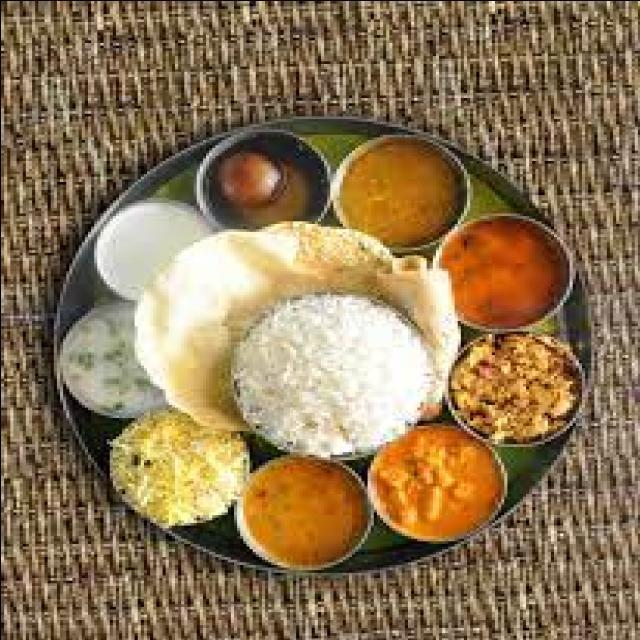curd: (44, 296, 173, 427), (72, 200, 210, 295)
dal: (224, 453, 381, 577), (330, 137, 471, 244)
papad: (118, 241, 278, 430)
raita: (48, 298, 171, 428)
rice: (228, 284, 438, 460), (96, 410, 253, 538), (451, 332, 585, 445)
sambar-rasam: (329, 133, 473, 245), (439, 218, 569, 330), (201, 144, 322, 232)
sweet: (198, 150, 324, 227)
